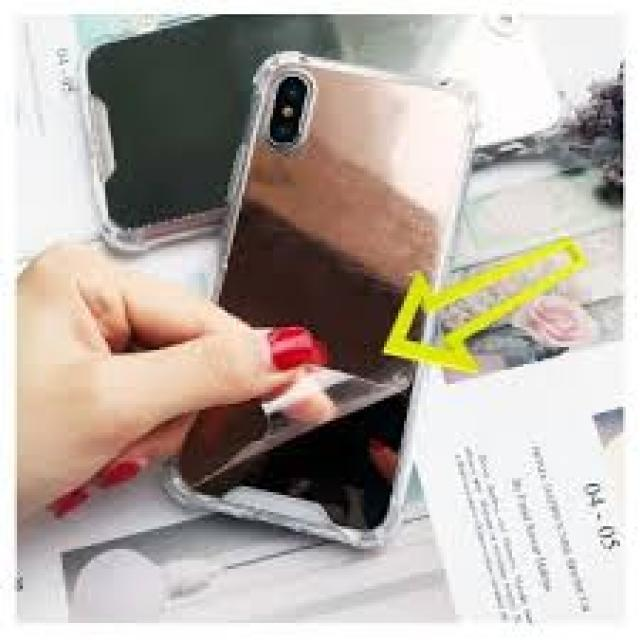Phone: (162, 49, 482, 555)
